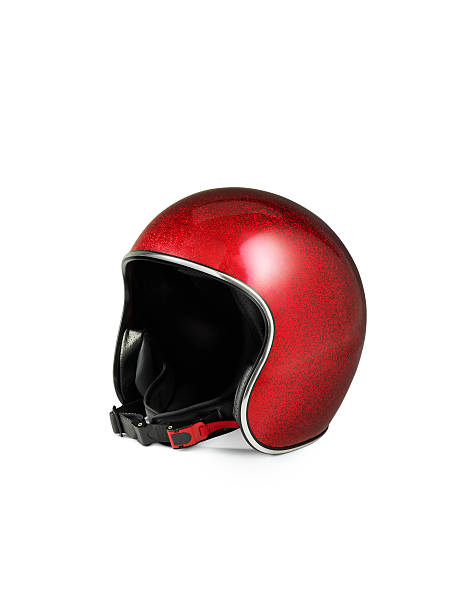with_helmet: (107, 181, 371, 464)
